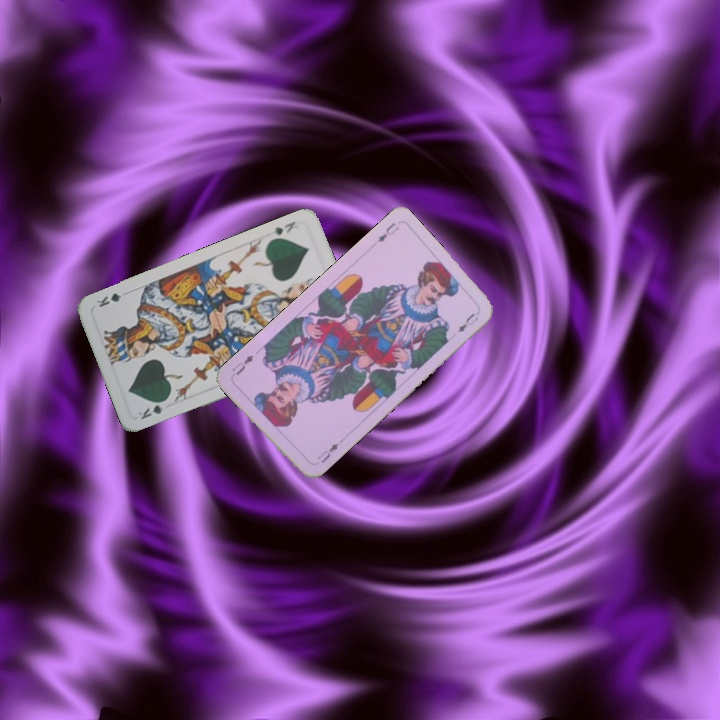EU: (313, 439, 341, 466), (374, 218, 401, 245)
GK: (134, 395, 170, 422), (268, 217, 298, 238)
